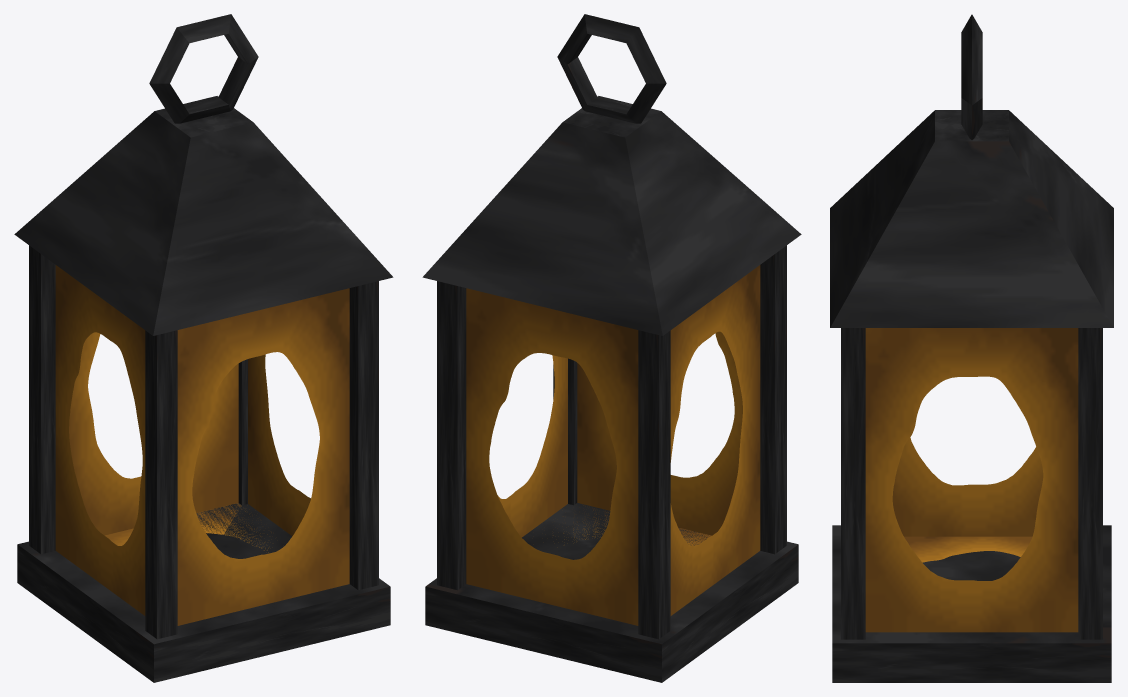
File: PSXH_Lantern.obj
The picture shows the model from 3 angles, left to right: view 1: azimuth 30°, elevation 25°; view 2: azimuth 150°, elevation 25°; view 3: azimuth 270°, elevation 25°; orthographic projection. The views are drawn at different scales.
Parts seen in each view (by area): view 1: PSXH_Lantern; view 2: PSXH_Lantern; view 3: PSXH_Lantern.
Part boxes in pixels (bbox=[...]): PSXH_Lantern: bbox=[14, 14, 393, 682]; PSXH_Lantern: bbox=[422, 14, 801, 682]; PSXH_Lantern: bbox=[830, 14, 1113, 682].
Size of the model in its own units: 0.1626 by 0.377 by 0.1626.
1 material, 1 textured.
